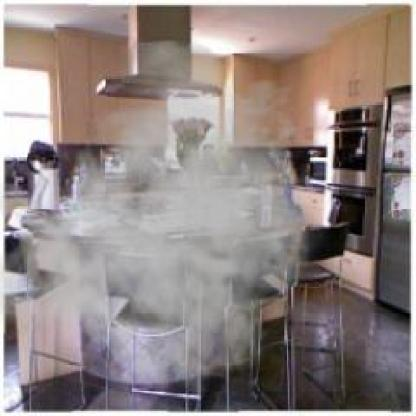Smoke: (0, 39, 343, 400)
